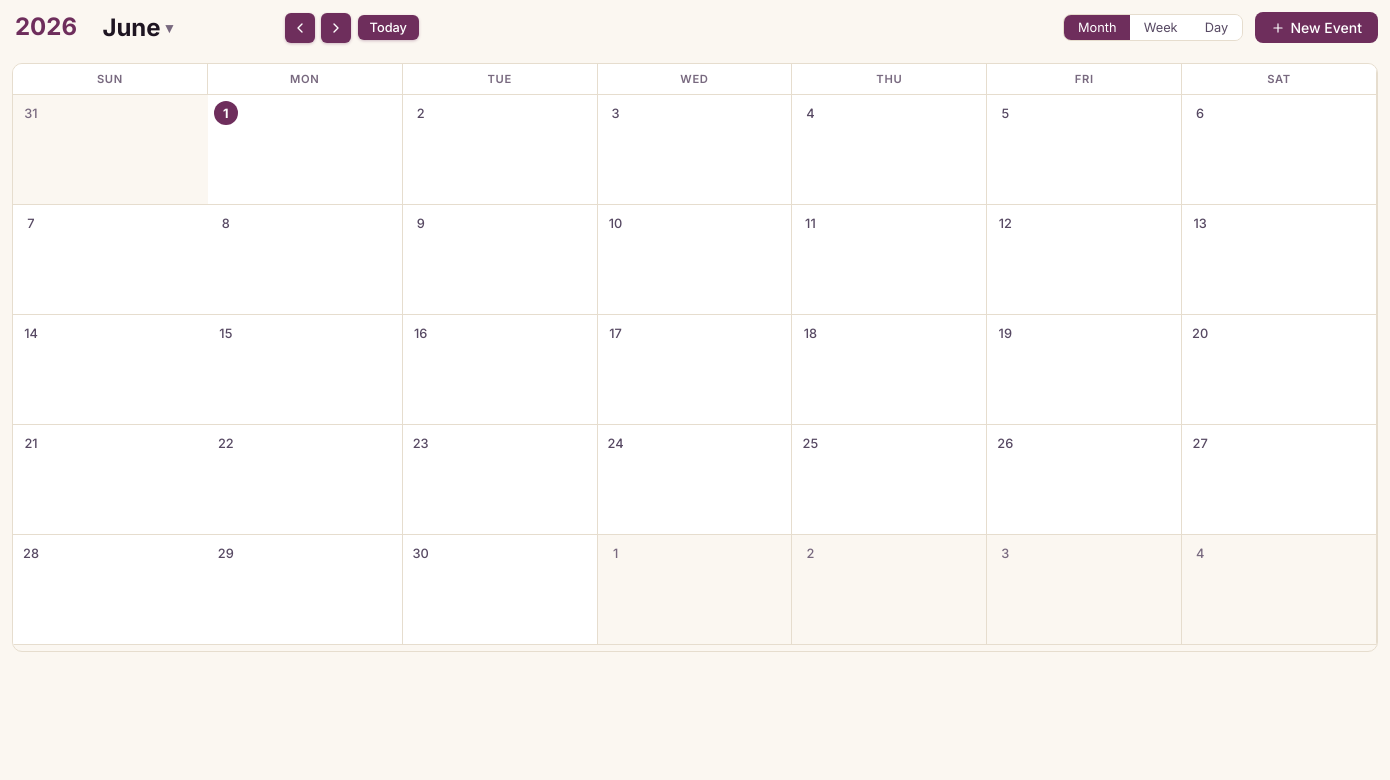
Test: switches to week view
The width and height of the screenshot is (1390, 780).
Click the button "Week" at x=1161, y=28, box [1130,15,1191,40]
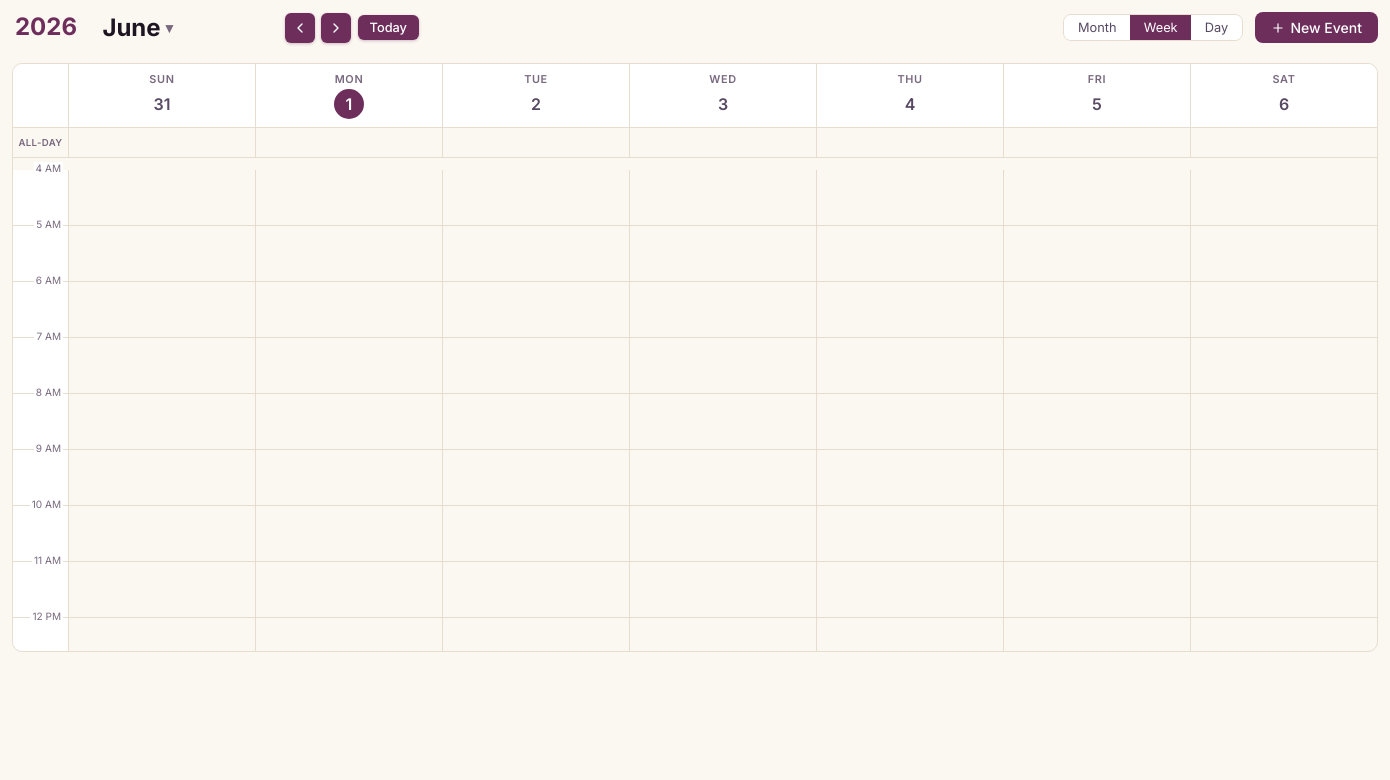
Expected: the element with class "cal-week-wrapper" is shown
